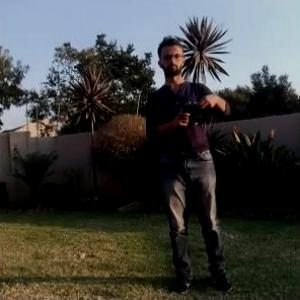follow: (141, 27, 237, 293)
